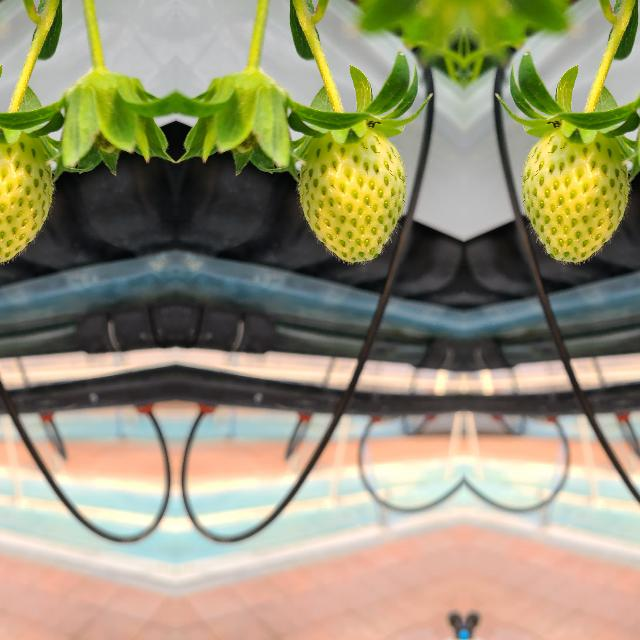Health_25: (294, 128, 408, 266), (518, 128, 632, 266), (0, 128, 56, 266)
